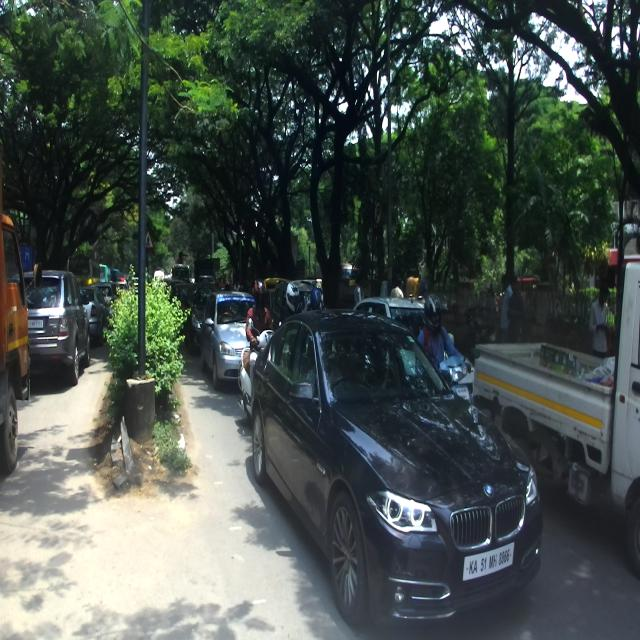car ahead at: (252, 307, 542, 633)
